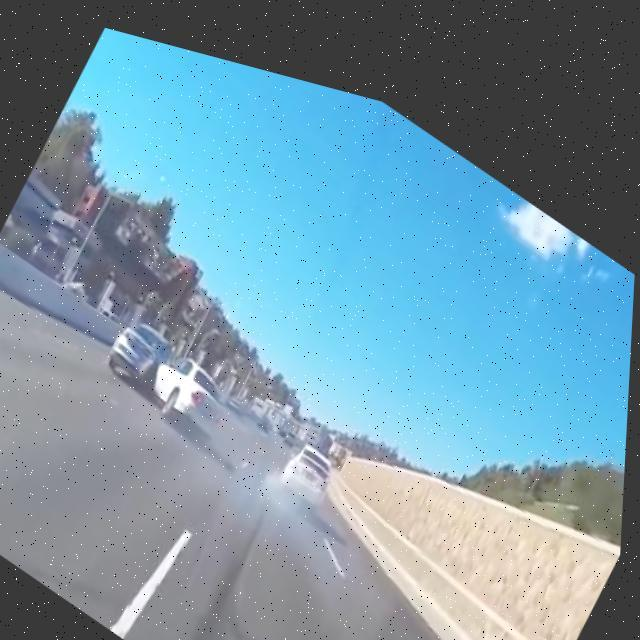Car Accident Detector - v4 Generation1 Exported: (98, 295, 248, 444)
